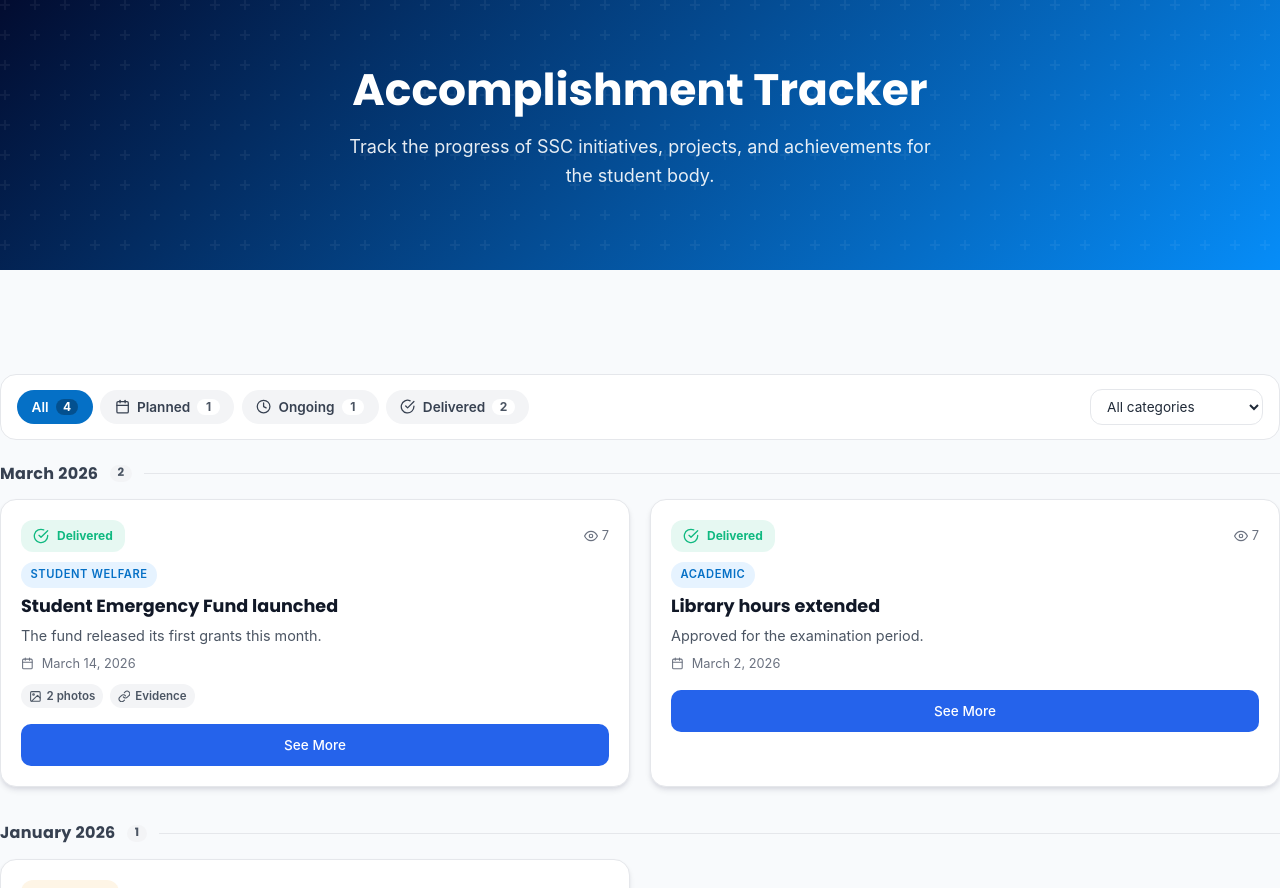
evidence › offers no link at all when the council did not give one
Click the 2nd element with class "accomplishment-card-content" at [723, 536], box [671,520,1259,732]
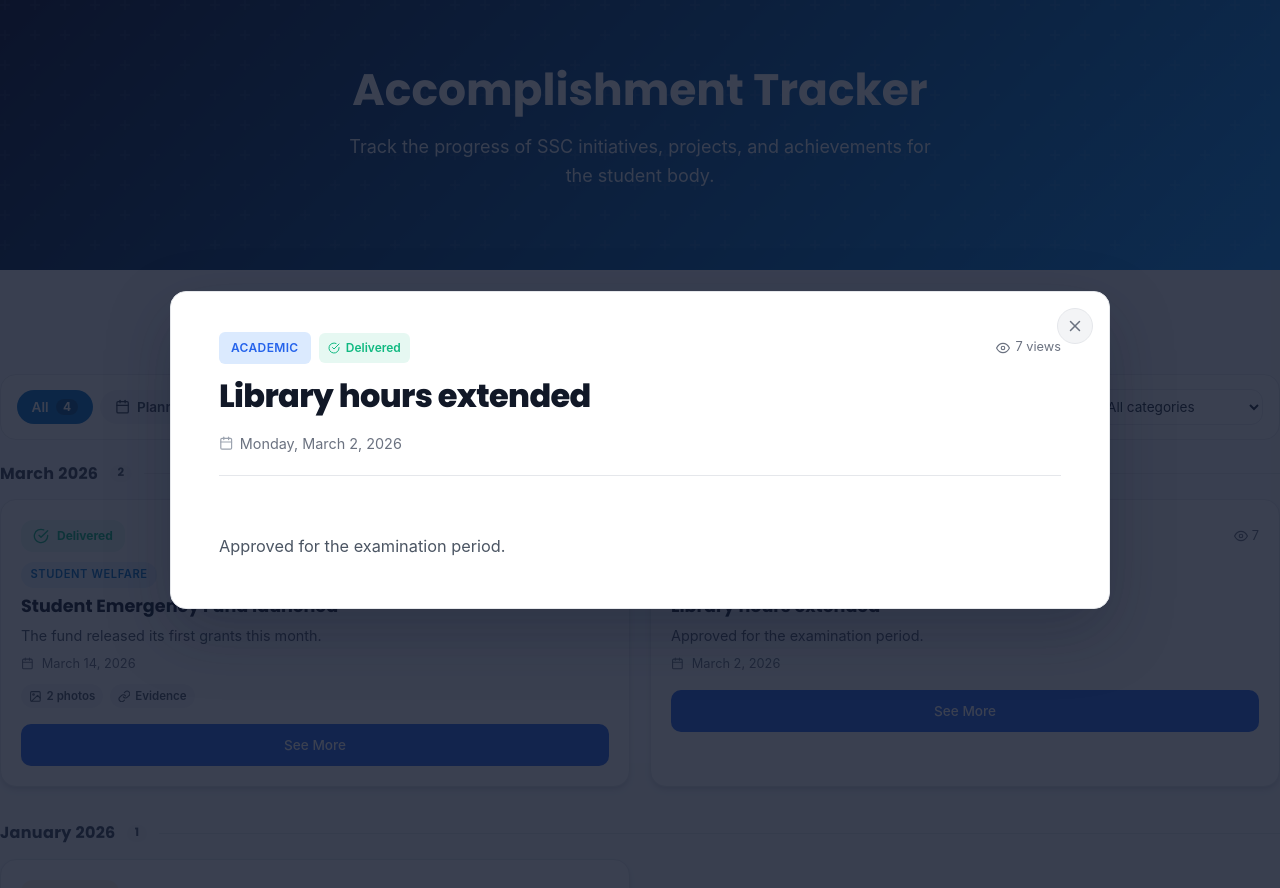
Result: the element with class "modal-content" is shown at [170,291,1110,609]
